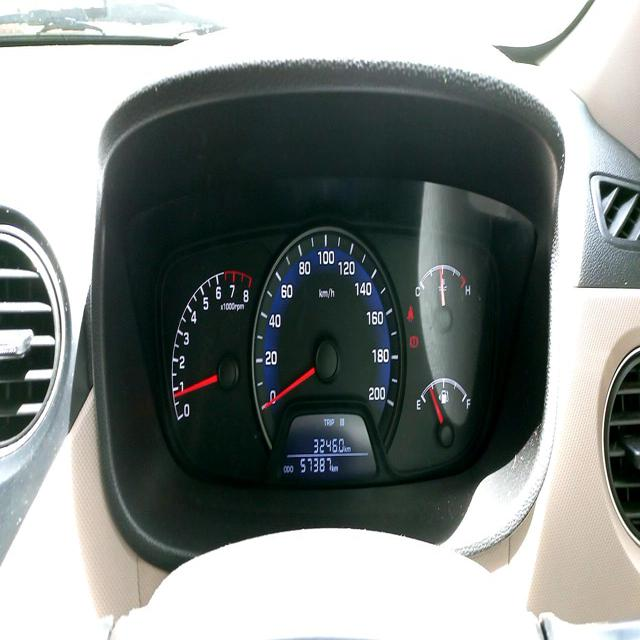odometer: (299, 455, 334, 478)
